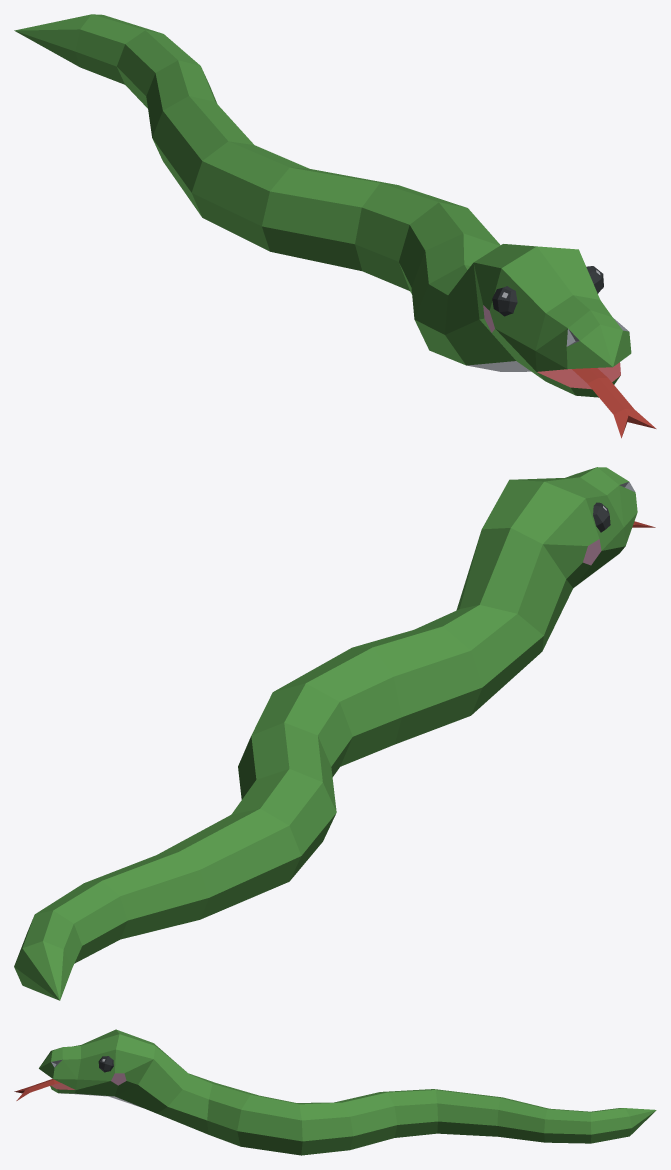
File: SM_Prop_Plushie_06.glb
3 views of the same model, one above another, from view 1: azimuth 30°, elevation 25°; view 2: azimuth 150°, elevation 25°; view 3: azimuth 270°, elevation 25° (orthographic). The views are drawn at different scales.
Parts seen in each view (by area): view 1: SM_Prop_Plushie_06; view 2: SM_Prop_Plushie_06; view 3: SM_Prop_Plushie_06.
Boxes of the visible parts, x1,y1,x2,y2 form: SM_Prop_Plushie_06: (14,14,656,438); SM_Prop_Plushie_06: (14,467,655,1000); SM_Prop_Plushie_06: (14,1029,656,1155).
Bounding box in the file's own units: 27.84 × 30.46 × 173.
1 material, 1 textured.
